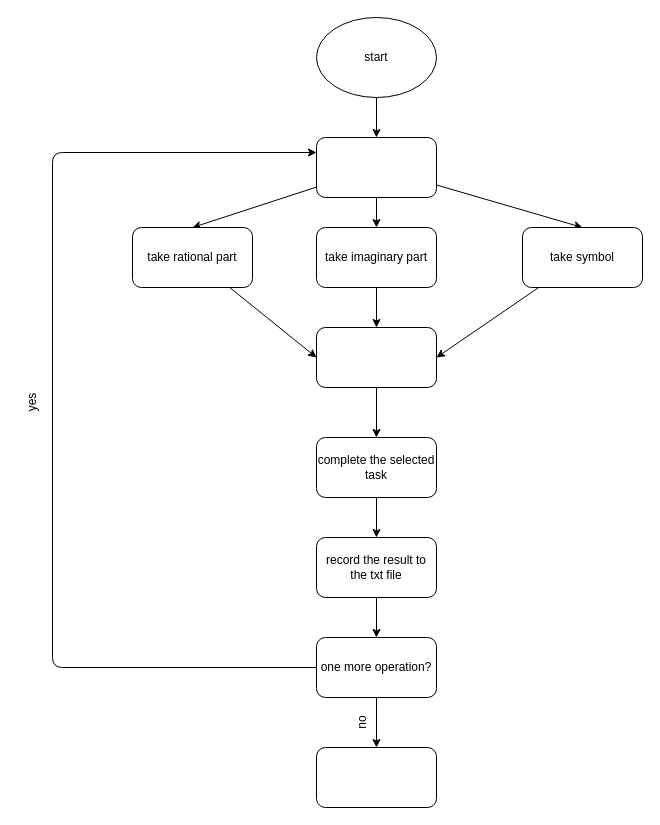
This 660x825 diagram has some shape labels left out. Here are the shapes that lost their labels. From the top down, the centre of each, then its label:
At point 376,167: "insert complex number".
At point 376,357: "choose operation (+,-,*,**)".
At point 376,777: "end".
